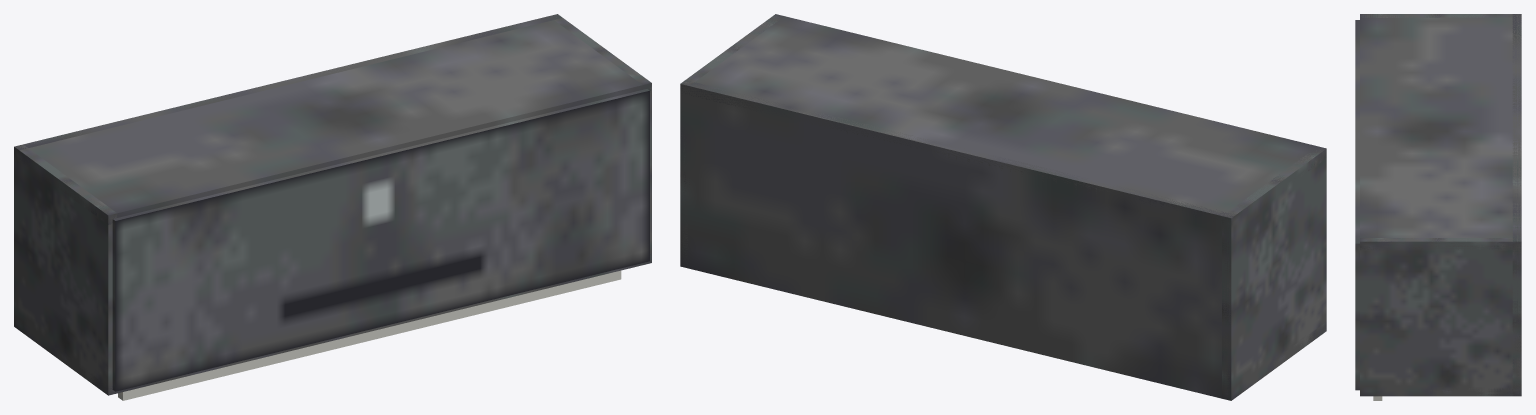
Rendered from overhead_bin.fbx.
3 views of the same model, side by side, from view 1: azimuth 30°, elevation 25°; view 2: azimuth 150°, elevation 25°; view 3: azimuth 270°, elevation 25° (orthographic). The views are drawn at different scales.
Visible parts, largest first — view 1: overhead_bin_door, overhead_bin; view 2: overhead_bin; view 3: overhead_bin, overhead_bin_door.
Boxes of the visible parts, box(x1,y1,x2,y2) form: overhead_bin_door: box(112, 89, 649, 391); overhead_bin: box(14, 14, 651, 400); overhead_bin: box(680, 14, 1326, 400); overhead_bin: box(1360, 14, 1521, 400); overhead_bin_door: box(1355, 20, 1359, 390).
Bounding box in the file's own units: 1.2 × 0.415 × 0.37.
